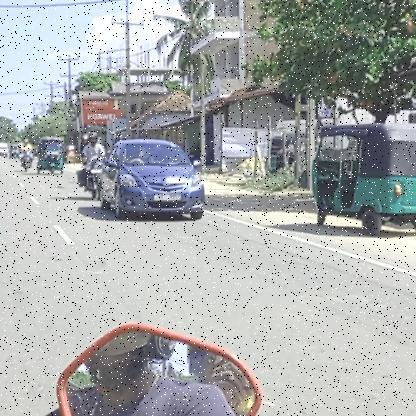motorcycle: (76, 157, 108, 202)
